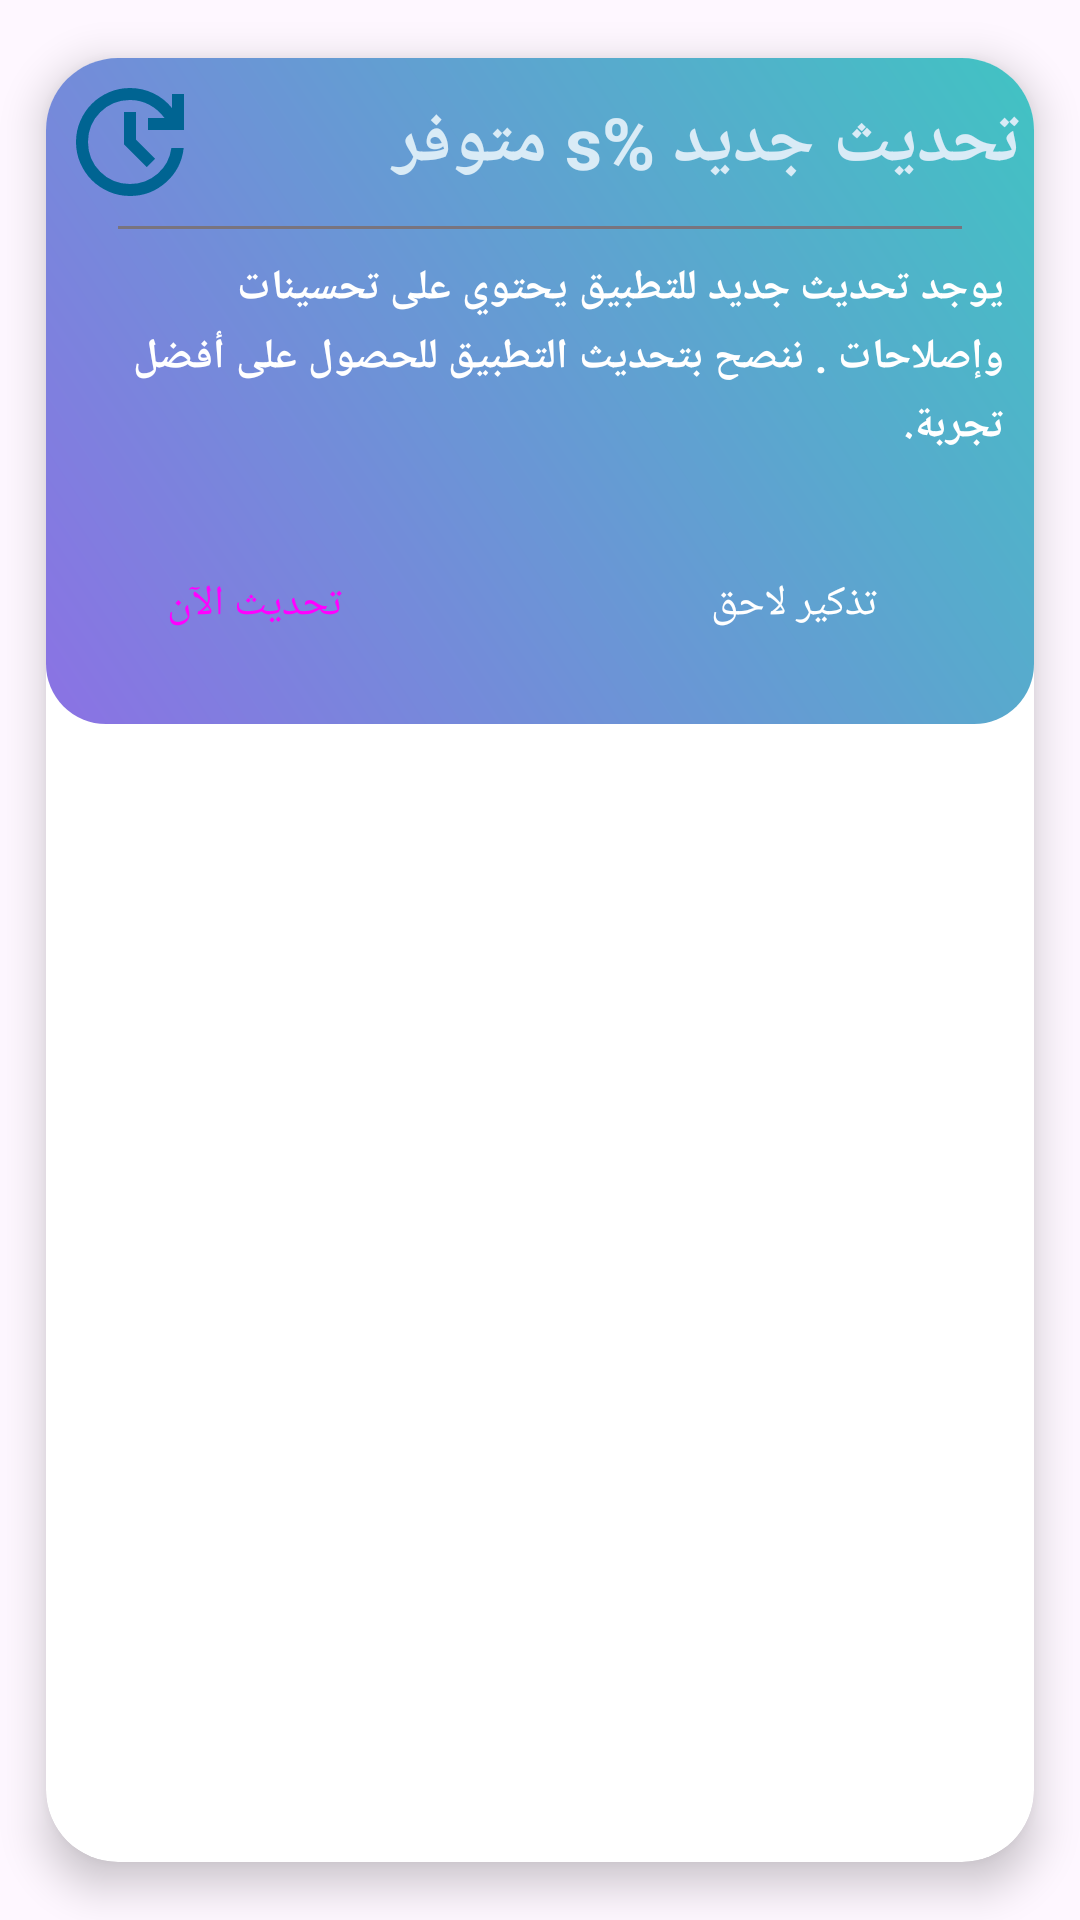

Screen size 1080 x 1920. Icon name, then its center in pixels as [x,y]:
update: [130,142]
